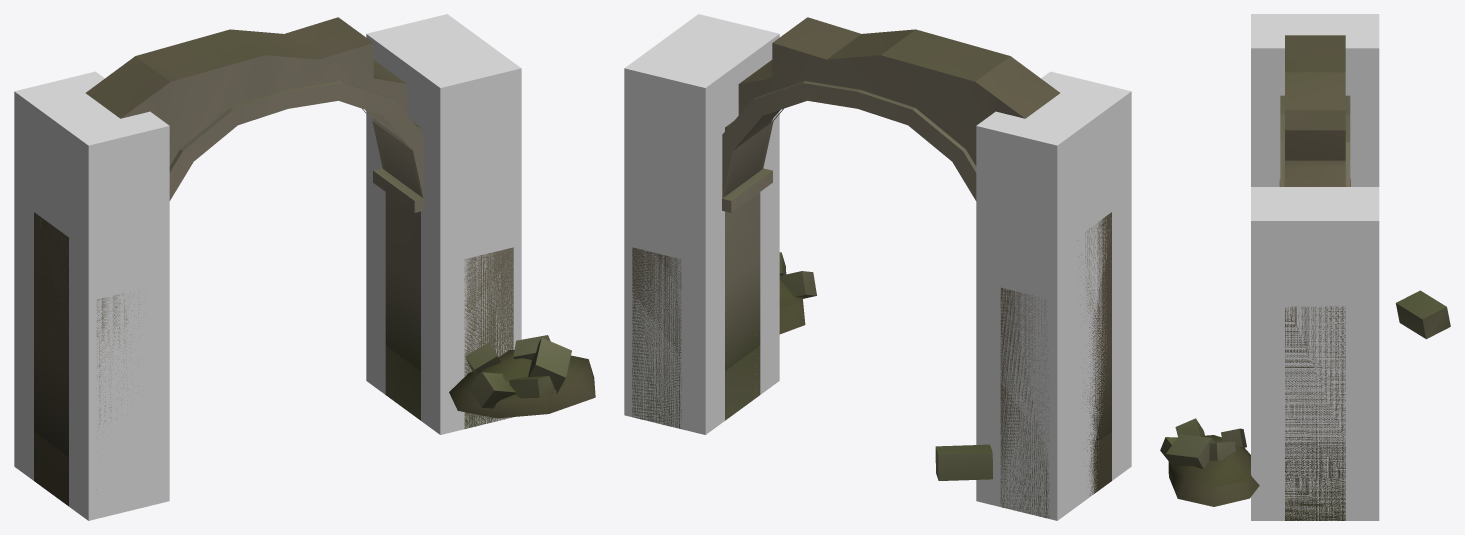
File: arch_ruin.glb
3 renders of one model, left to right at view 1: azimuth 30°, elevation 25°; view 2: azimuth 150°, elevation 25°; view 3: azimuth 270°, elevation 25°, orthographic. The views are drawn at different scales.
Parts seen in each view (by area): view 1: arch_ruin, COL_left, COL_right; view 2: COL_left, arch_ruin, COL_right; view 3: COL_right, arch_ruin, COL_left.
Part boxes in pixels (x1=…): arch_ruin: x1=34, y1=17, x2=595, y2=506; COL_left: x1=14, y1=71, x2=169, y2=520; COL_right: x1=366, y1=14, x2=521, y2=434; COL_left: x1=976, y1=71, x2=1131, y2=520; arch_ruin: x1=632, y1=17, x2=1111, y2=517; COL_right: x1=624, y1=14, x2=779, y2=434; COL_right: x1=1251, y1=187, x2=1379, y2=520; arch_ruin: x1=1160, y1=35, x2=1450, y2=520; COL_left: x1=1251, y1=14, x2=1379, y2=186.
Size of the model in its own units: 7.16 by 5.7 by 4.31.
